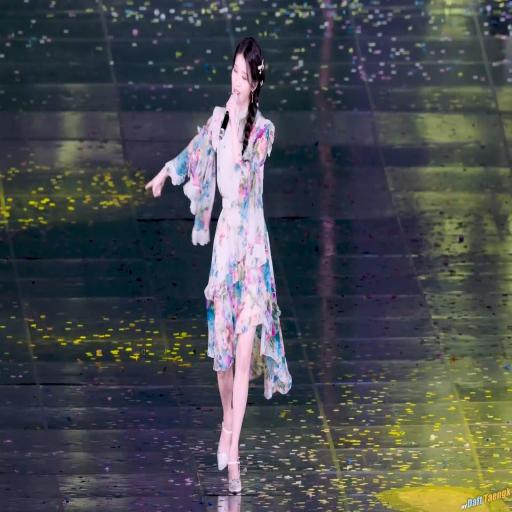IU: (231, 39, 265, 104)
